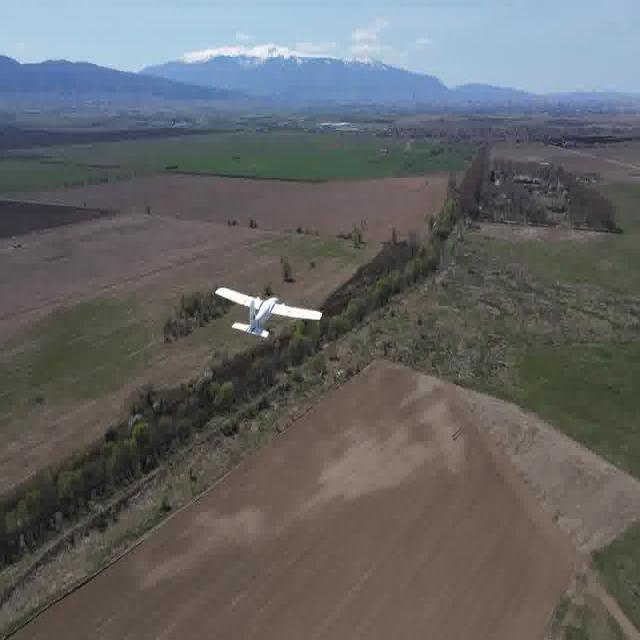iha: (240, 314, 284, 326)
